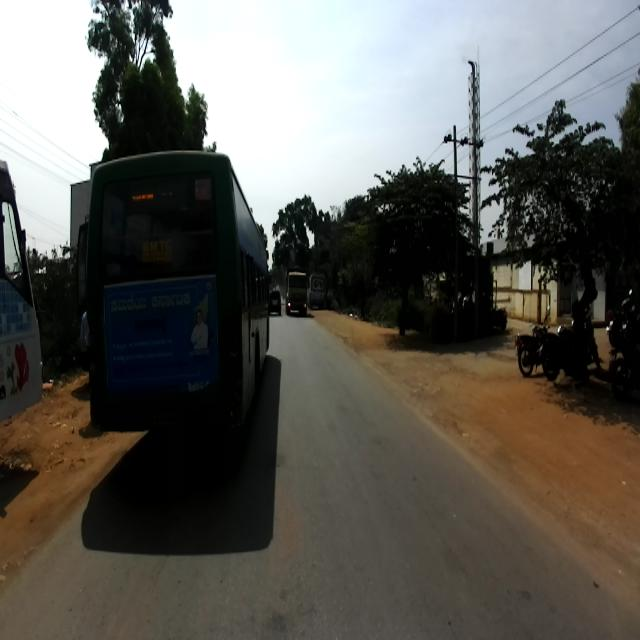bus ahead at: (74, 148, 258, 451)
